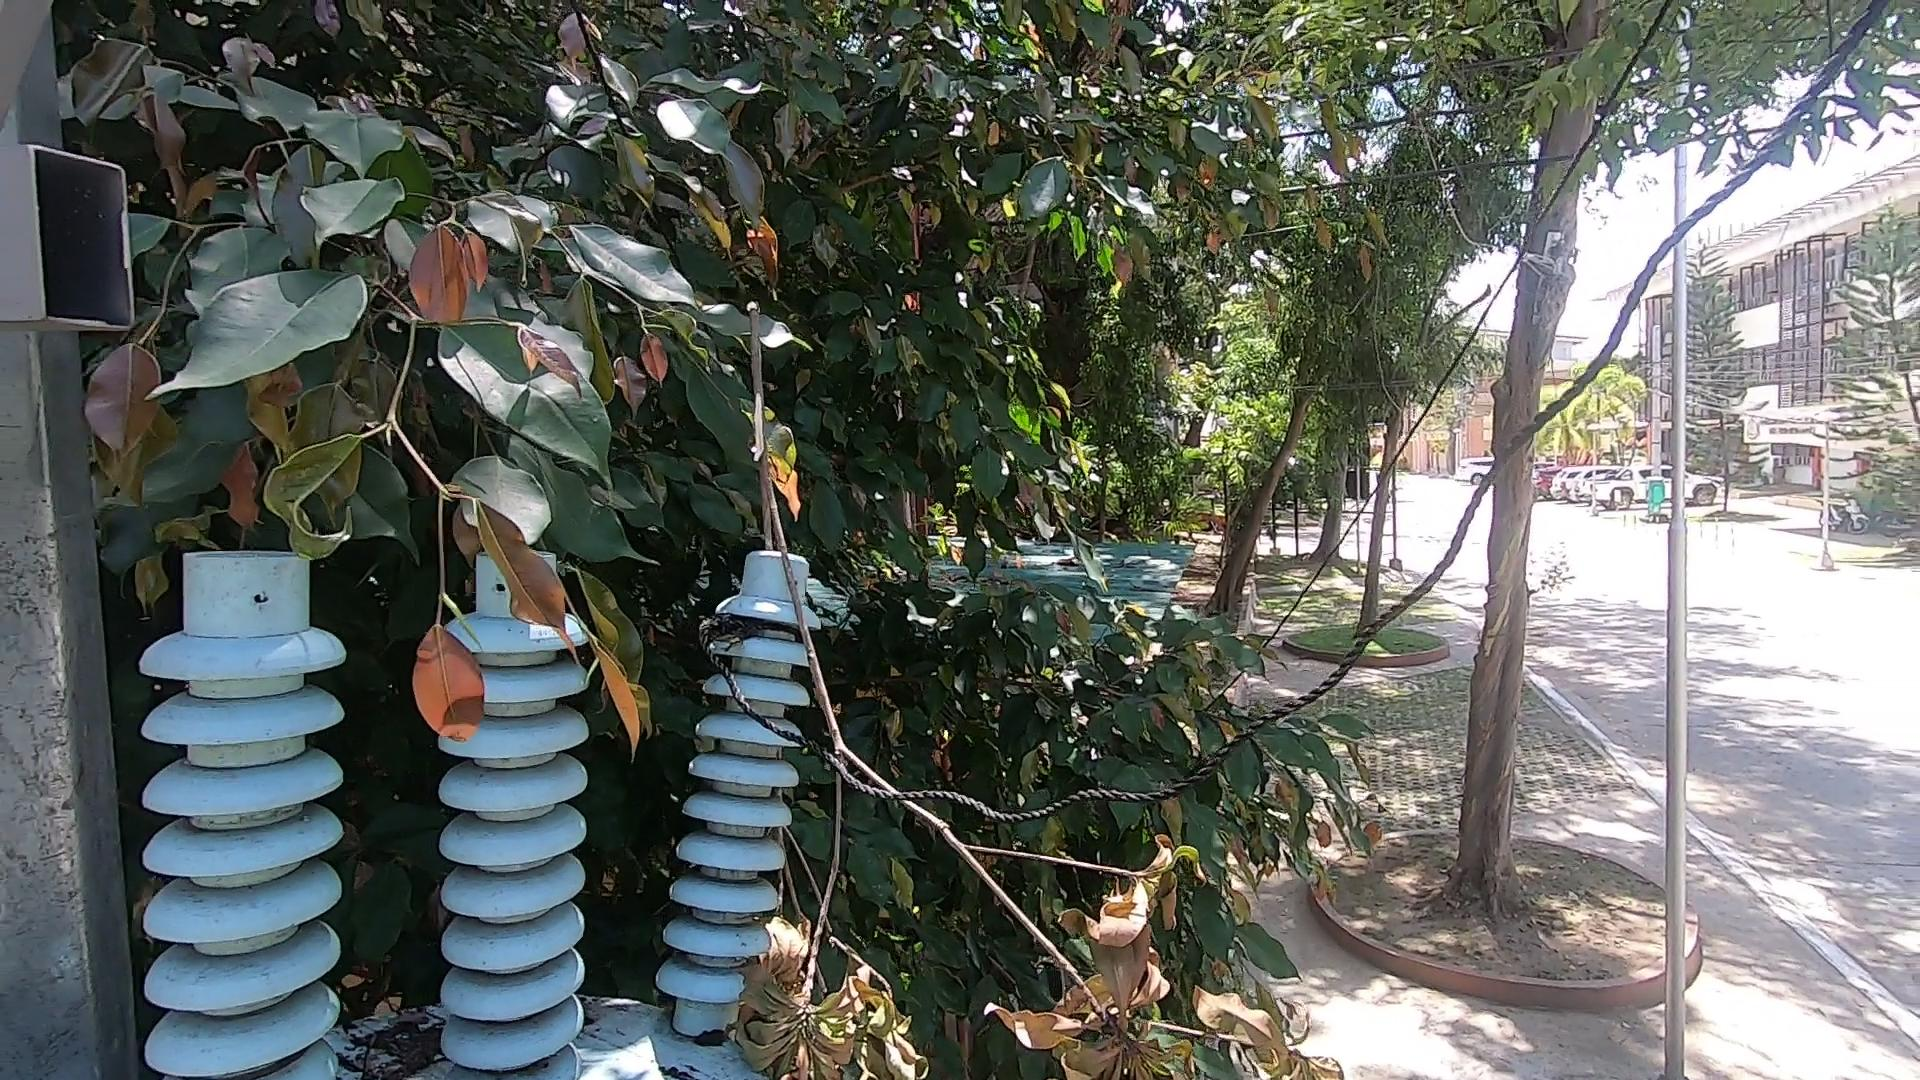branch with leaves: (732, 294, 1403, 1080)
